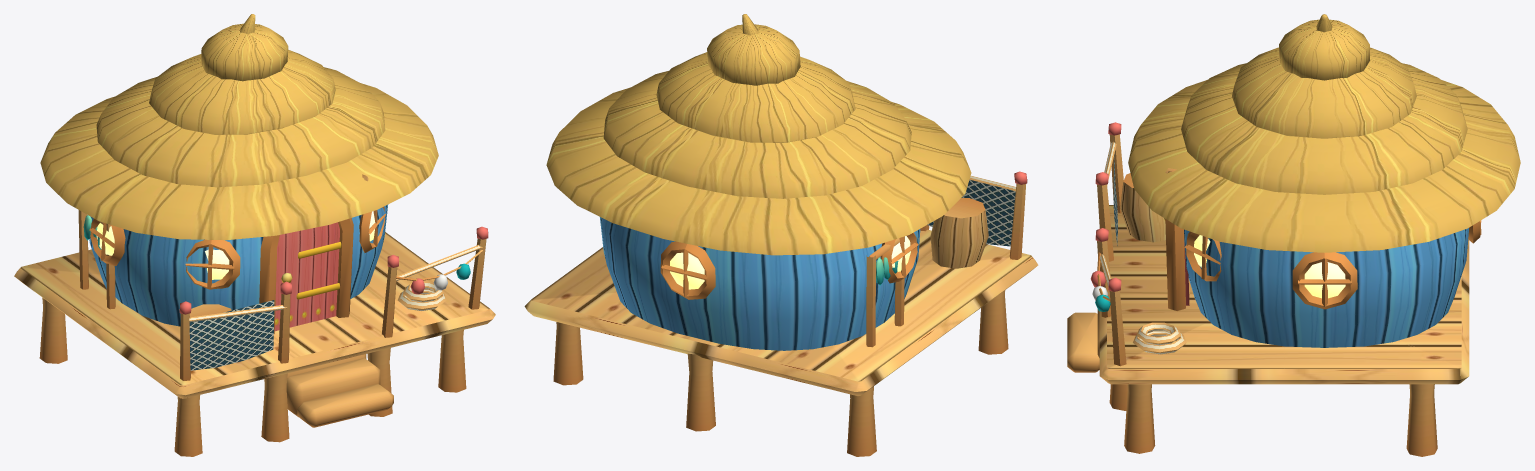
File: house_2.glb
3 views of the same model, side by side, from view 1: azimuth 30°, elevation 25°; view 2: azimuth 150°, elevation 25°; view 3: azimuth 270°, elevation 25° (orthographic). The views are drawn at different scales.
Visible parts, largest first — view 1: house_2; view 2: house_2; view 3: house_2.
Boxes of the visible parts, <box> form: house_2: <box>14,14,495,456</box>; house_2: <box>524,14,1038,456</box>; house_2: <box>1067,14,1520,456</box>.
Size of the model in its own units: 6.02 by 5.65 by 6.26.
Materials: 4 (4 with a texture image).
